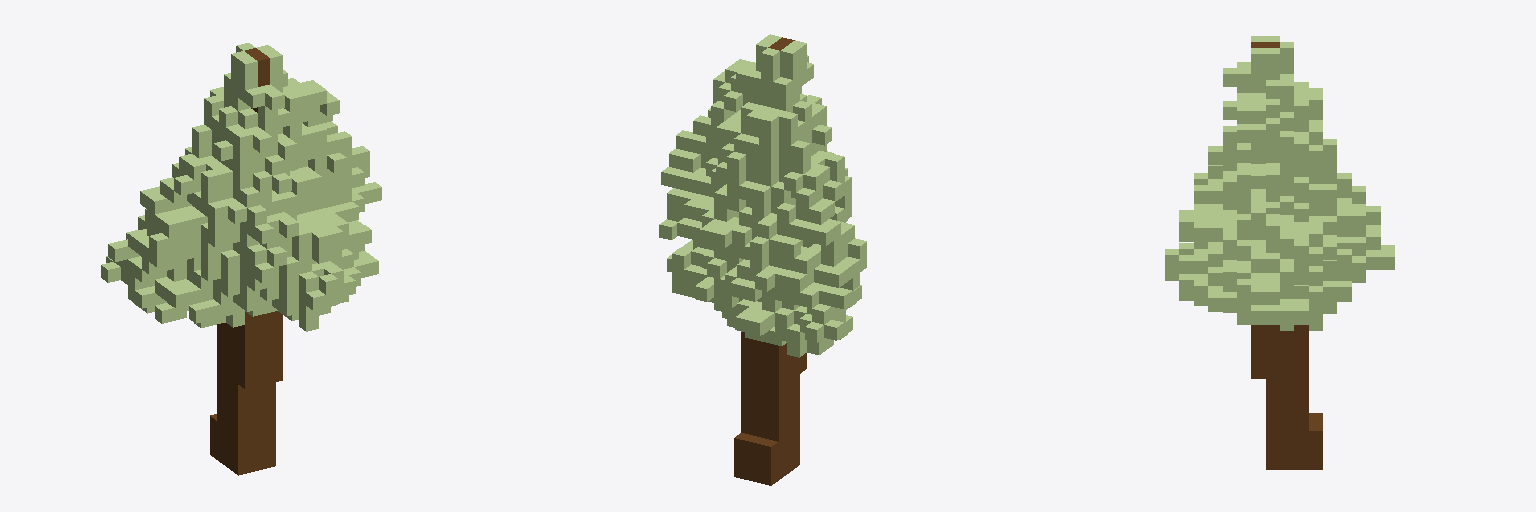
The picture shows the model from 3 angles: view 1: azimuth 30°, elevation 25°; view 2: azimuth 150°, elevation 25°; view 3: azimuth 270°, elevation 25°; orthographic projection.
Parts seen in each view (by area): view 1: Model; view 2: Model; view 3: Model.
Part boxes in pixels (bbox=[...]): Model: bbox=[101, 43, 381, 475]; Model: bbox=[659, 34, 866, 485]; Model: bbox=[1165, 36, 1394, 469].
Bounding box in the file's own units: 18 × 32 × 16.
Materials: 1 (1 with a texture image).